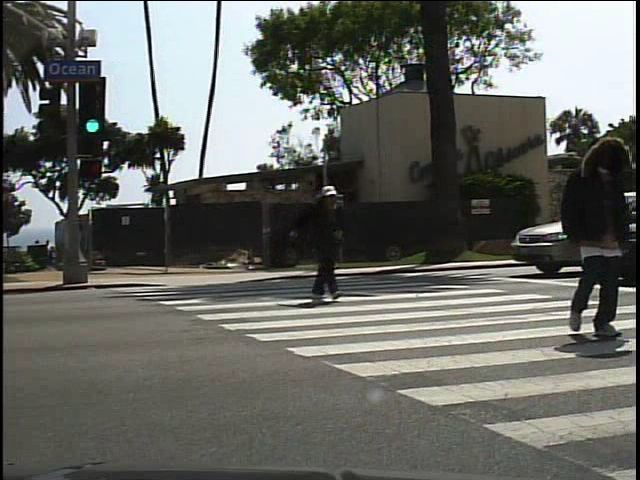person: (552, 131, 633, 349), (299, 179, 355, 315)
